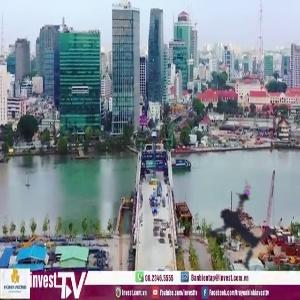drone: (186, 176, 283, 273)
